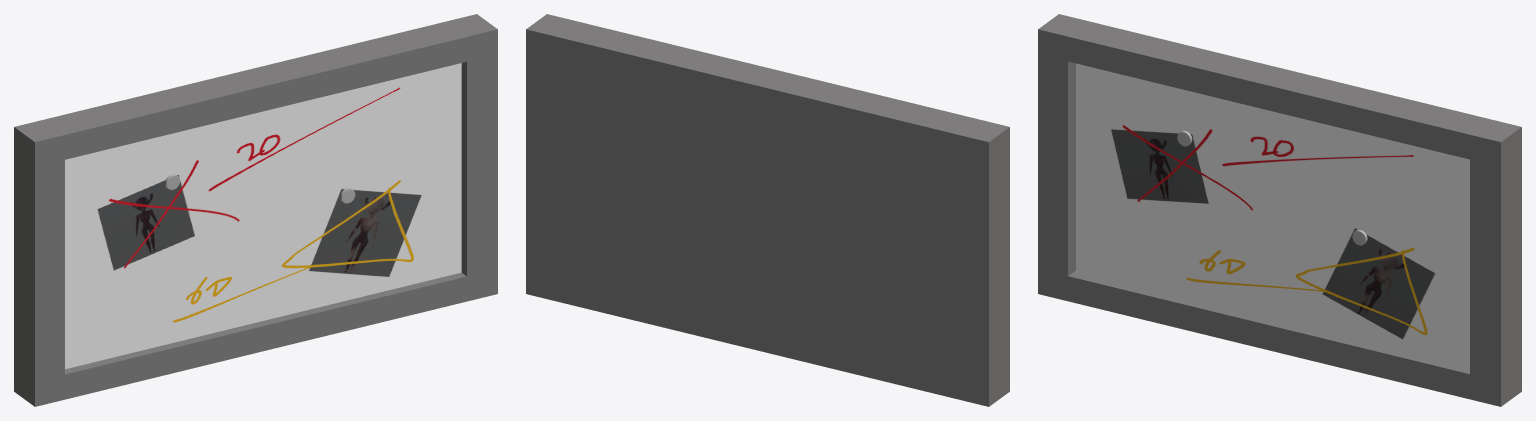
The model's file is boad1.fbx.
3 views of the same model, side by side, from view 1: azimuth 30°, elevation 25°; view 2: azimuth 150°, elevation 25°; view 3: azimuth 330°, elevation 25° (orthographic).
Visible parts, largest first — view 1: 平面, Cube; view 2: Cube; view 3: 平面, Cube.
Part boxes in pixels (<box>): 平面: <box>65,63,461,369</box>; Cube: <box>14,14,497,406</box>; Cube: <box>526,14,1009,406</box>; 平面: <box>1076,63,1469,368</box>; Cube: <box>1038,14,1521,406</box>.
Bounding box in the file's own units: 366 × 200 × 28.72.
4 materials, 1 textured.
